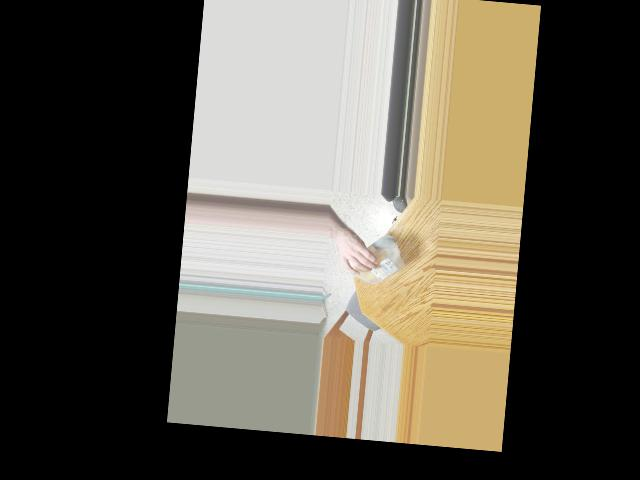cheese: (342, 232, 409, 288)
